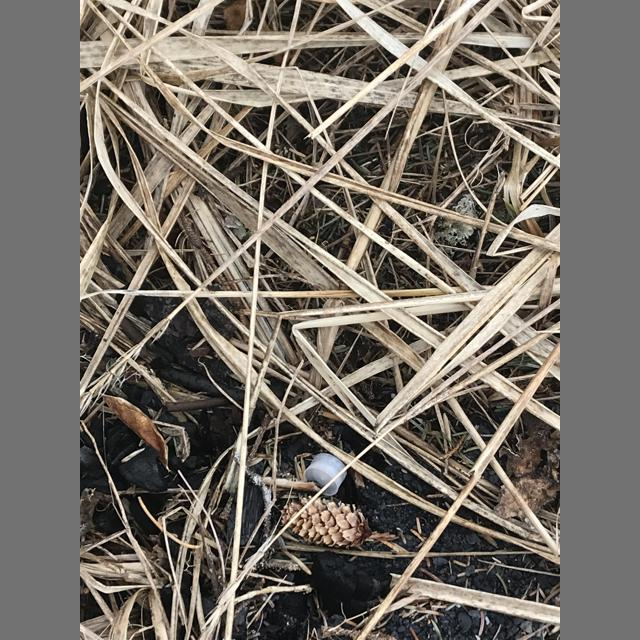litter: (304, 453, 348, 496)
